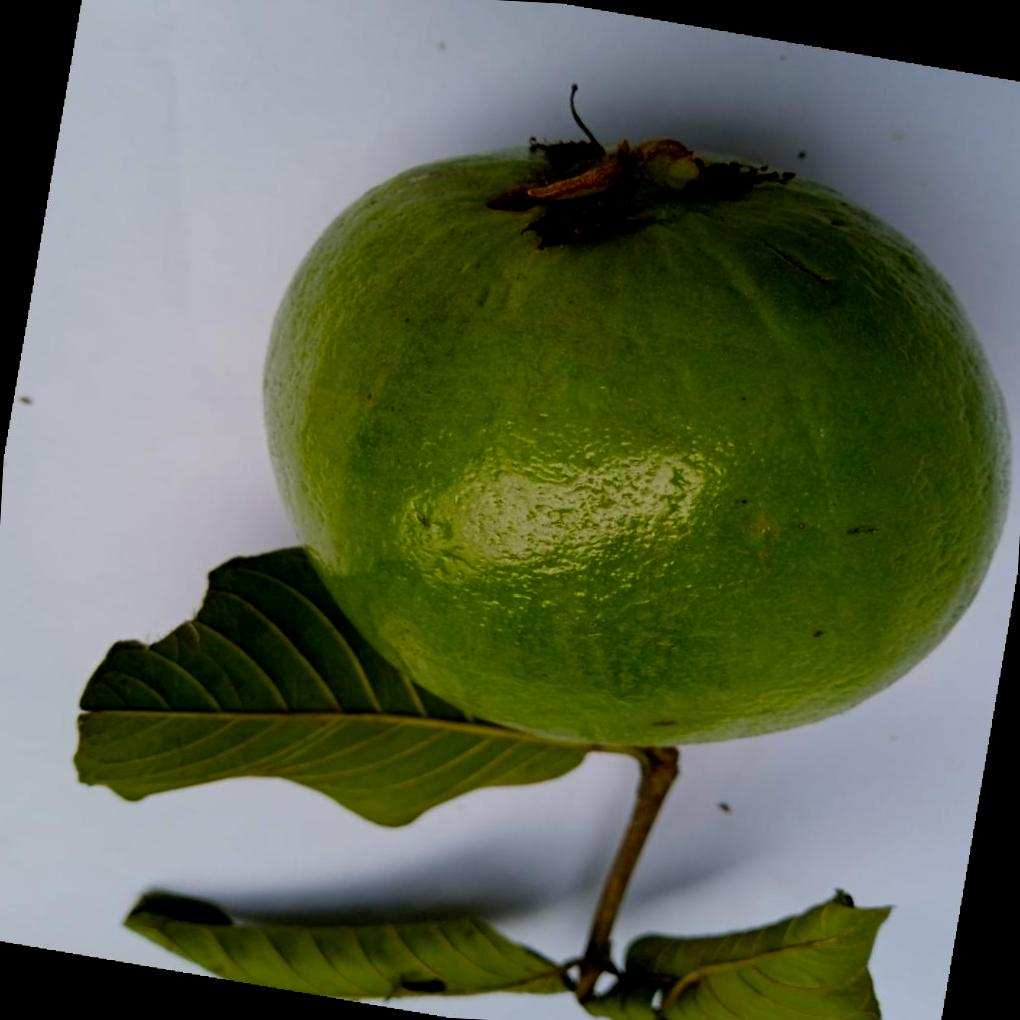FreshGuava: (258, 128, 1013, 749)
